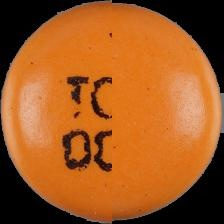68151-2749: (0, 0, 224, 224)
